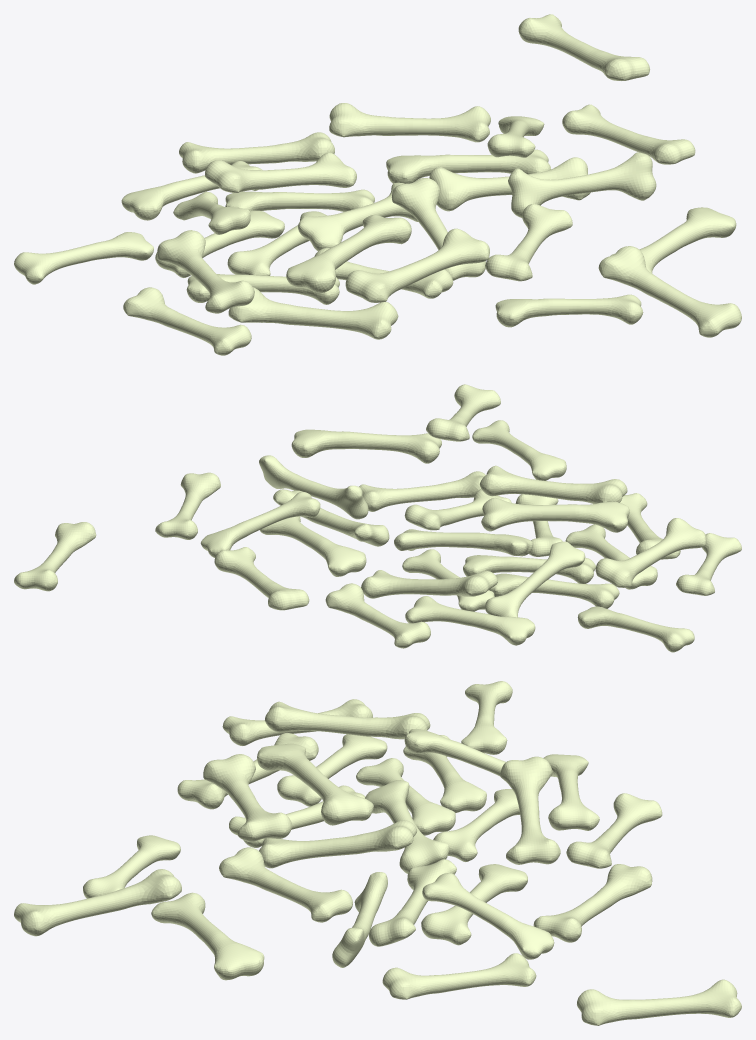
Rendered from Bones.fbx.
3 renders of one model, top to bottom at view 1: azimuth 30°, elevation 25°; view 2: azimuth 150°, elevation 25°; view 3: azimuth 270°, elevation 25°, orthographic. The views are drawn at different scales.
Parts seen in each view (by area): view 1: Bones; view 2: Bones; view 3: Bones.
Part boxes in pixels (x1,y1,x2,y2): Bones: (14, 14, 741, 355); Bones: (14, 384, 741, 652); Bones: (14, 681, 741, 1025).
Size of the model in its own units: 79.1 by 5.84 by 72.74.
